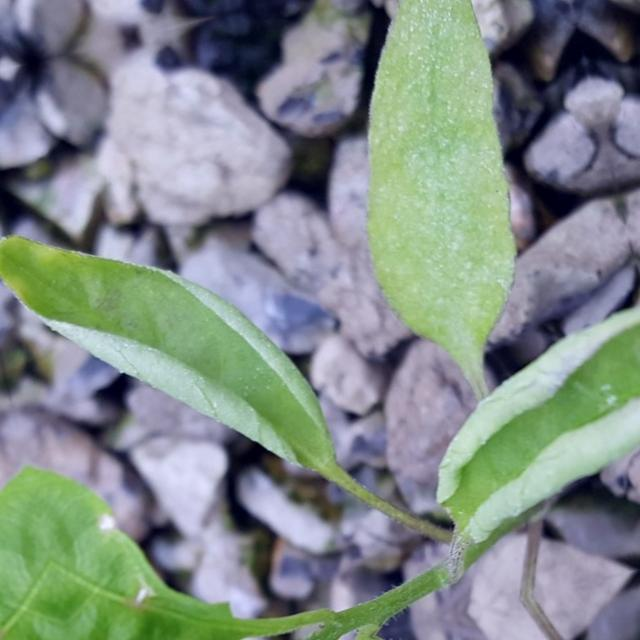Tomato leaf: (0, 165, 359, 564), (296, 0, 585, 403), (3, 333, 246, 640), (74, 609, 272, 640)
